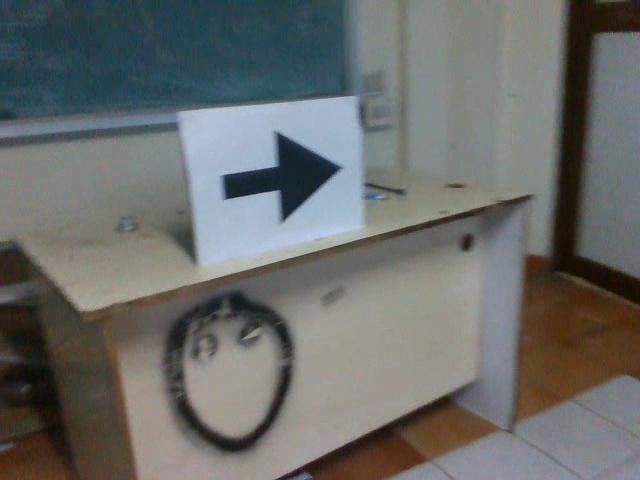Right: (213, 127, 345, 226)
